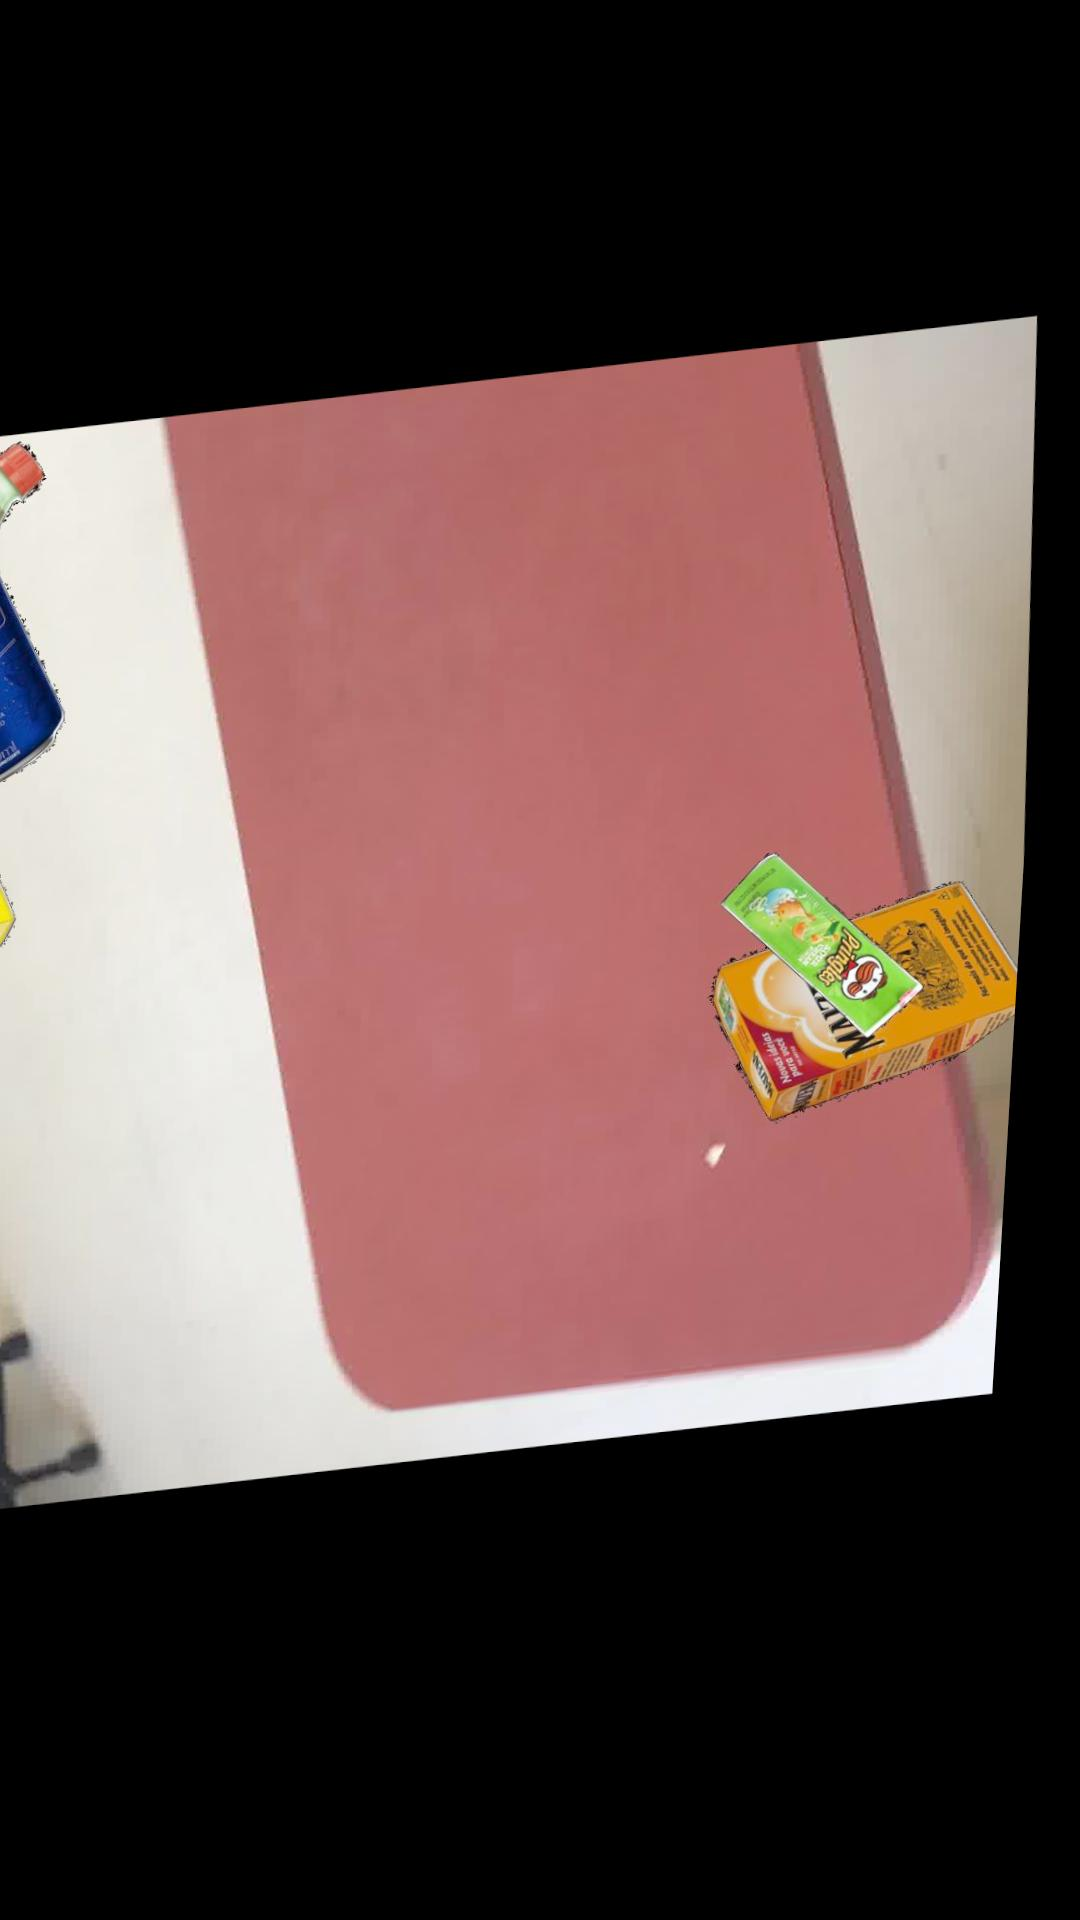guarana: (0, 439, 51, 531)
pringles: (732, 864, 936, 1052)
tonic: (0, 564, 73, 786)
